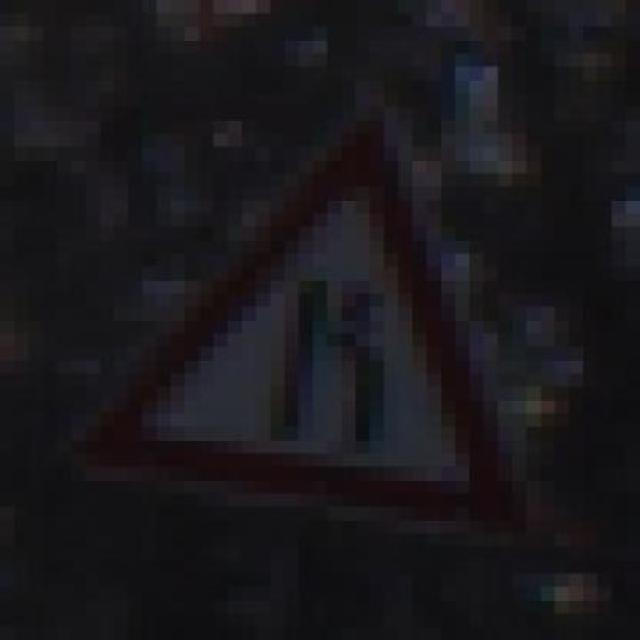-Road narrows on right: (99, 106, 541, 560)
